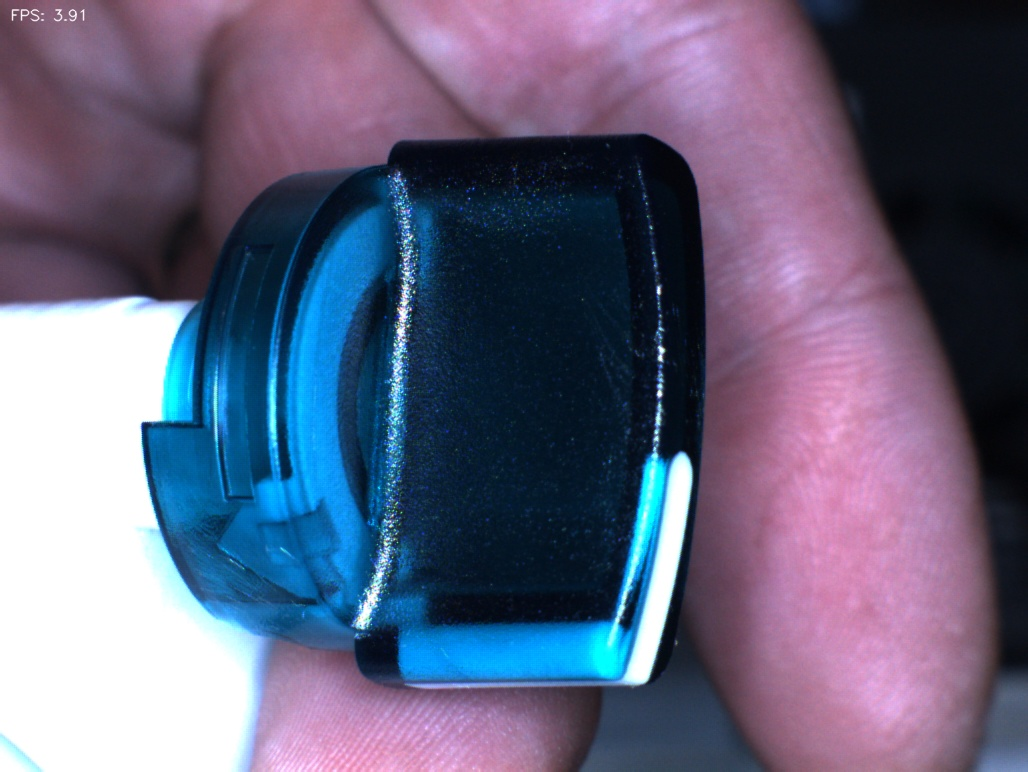Givrage: (575, 279, 658, 454)
